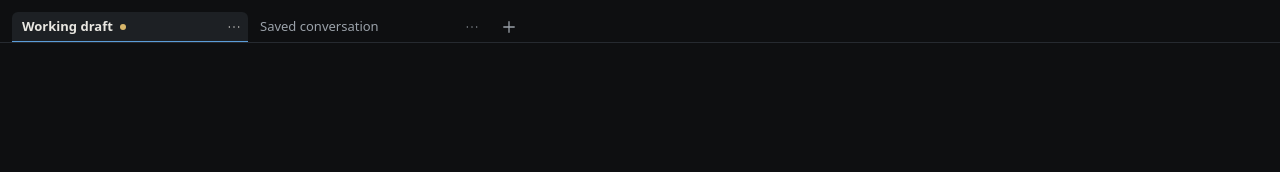
ChatTabs › skips disabled items and lets Escape reach Emergency Stop
Click the button named "Open options for Working draft". click: (234, 26)
box: [220, 12, 248, 41]
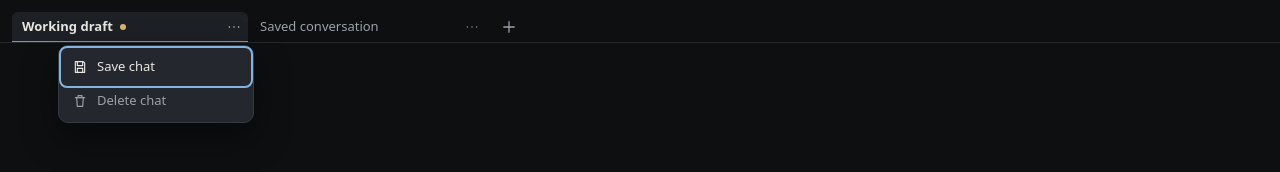
Now the menu item "Delete chat" is disabled, box [63, 84, 249, 118]
Press ArrowDown in the menu item "Save chat", box [63, 50, 249, 84]
Press Escape in the menu item "Save chat", box [63, 50, 249, 84]
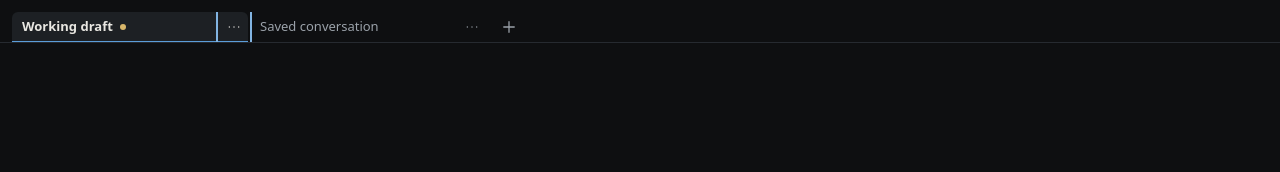
Now the menu is gone
